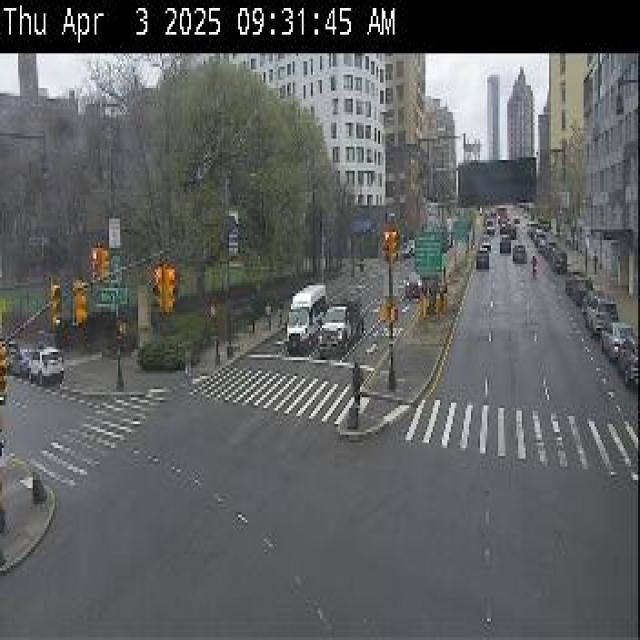open parking: (526, 227, 623, 373)
